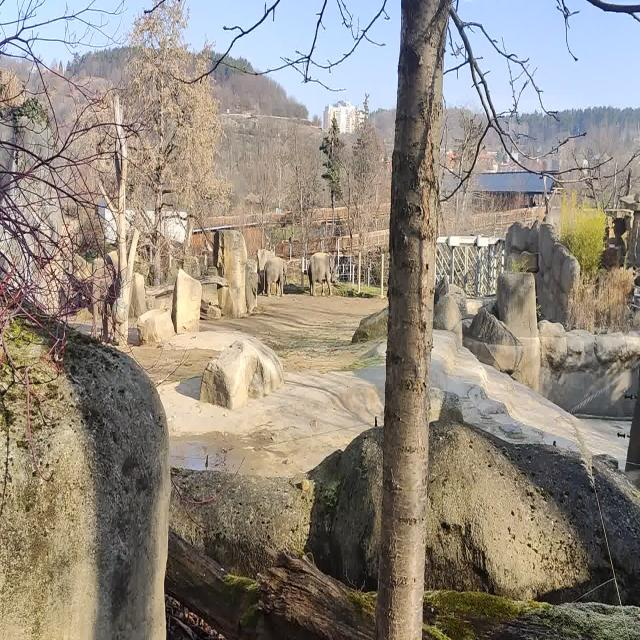elephant: (92, 249, 119, 342), (307, 253, 335, 296), (264, 256, 287, 297)
